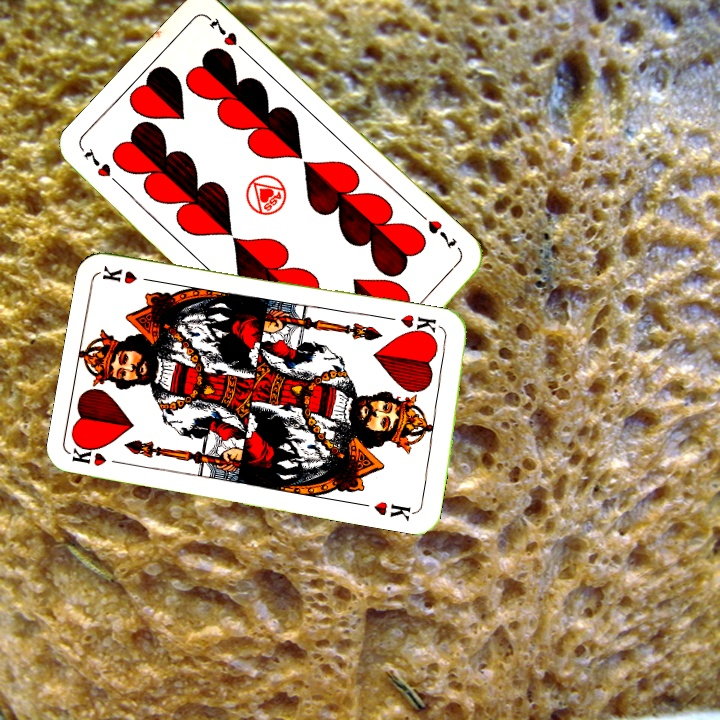H7: (79, 144, 126, 191), (423, 216, 459, 251)
HK: (69, 440, 129, 469), (396, 310, 439, 341)
